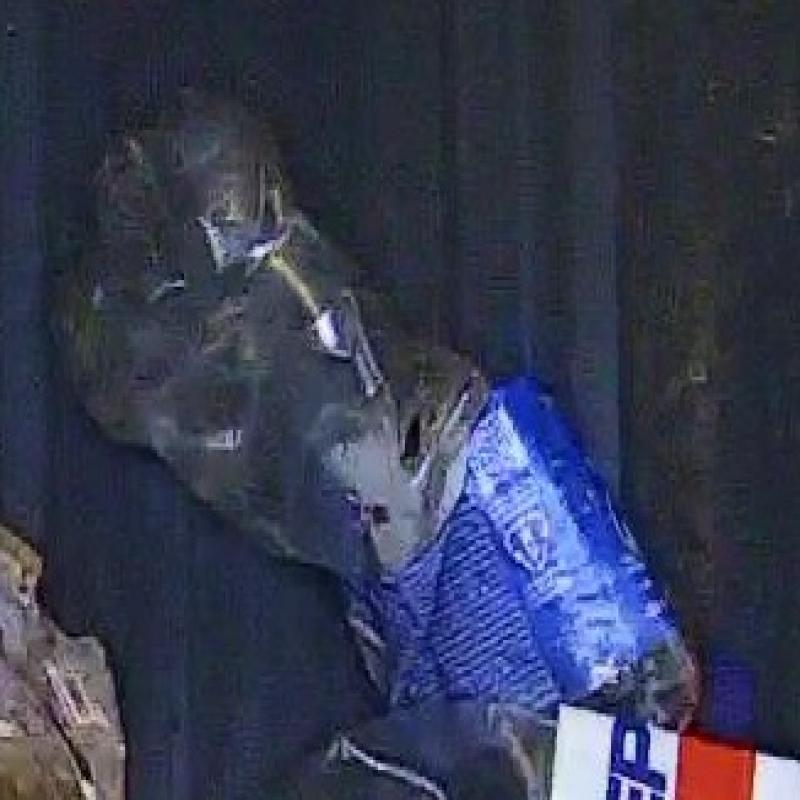botella: (60, 84, 759, 757), (272, 683, 798, 800)
